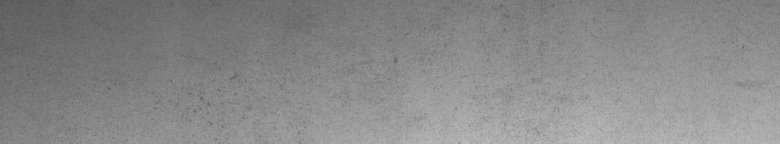ib: (186, 73, 246, 128)
